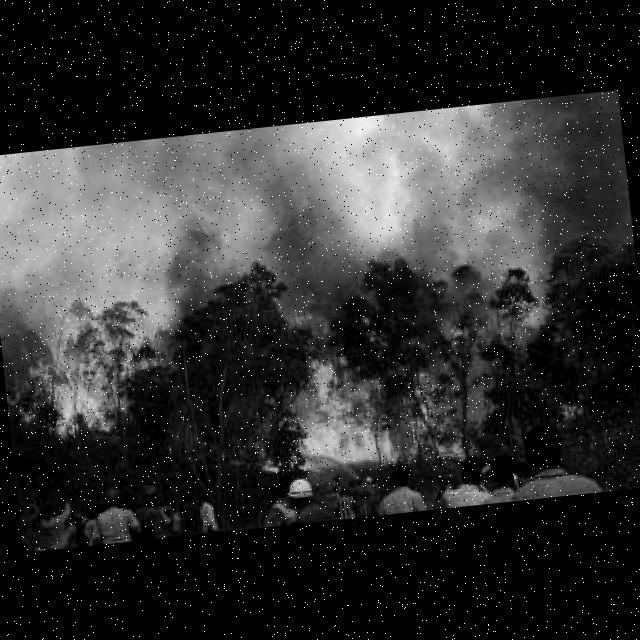Fire: (252, 298, 471, 476), (18, 356, 141, 442)
Smoke: (364, 91, 636, 299), (236, 143, 371, 322), (147, 194, 230, 330)
